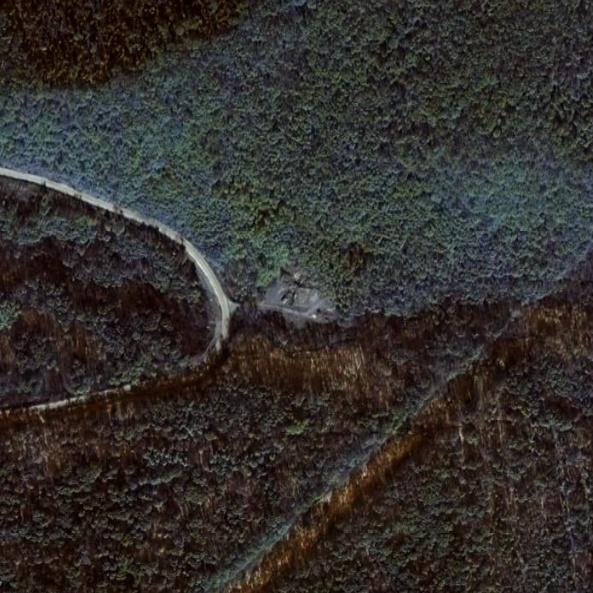slope: (256, 259, 363, 347)
